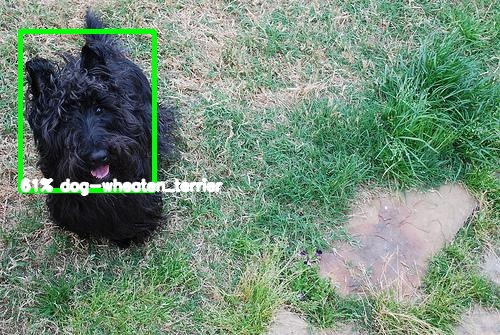dog-scottish_terrier: (24, 11, 125, 186)
